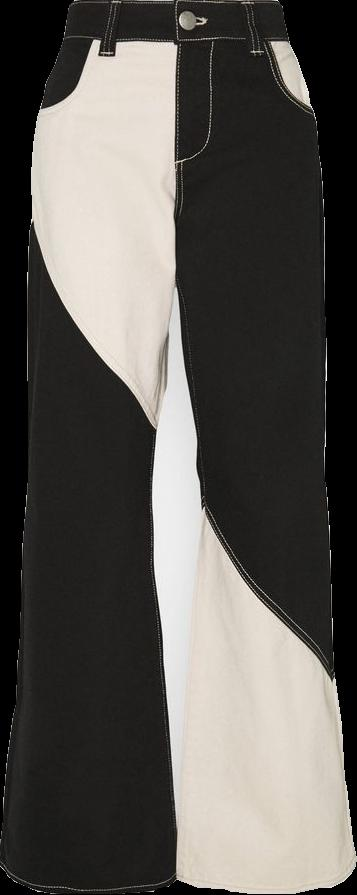Hemline: (173, 859, 356, 894), (0, 859, 174, 894)
Pantleg: (177, 0, 356, 892), (0, 0, 177, 891)
Waistline: (58, 30, 289, 45), (66, 0, 277, 11)
